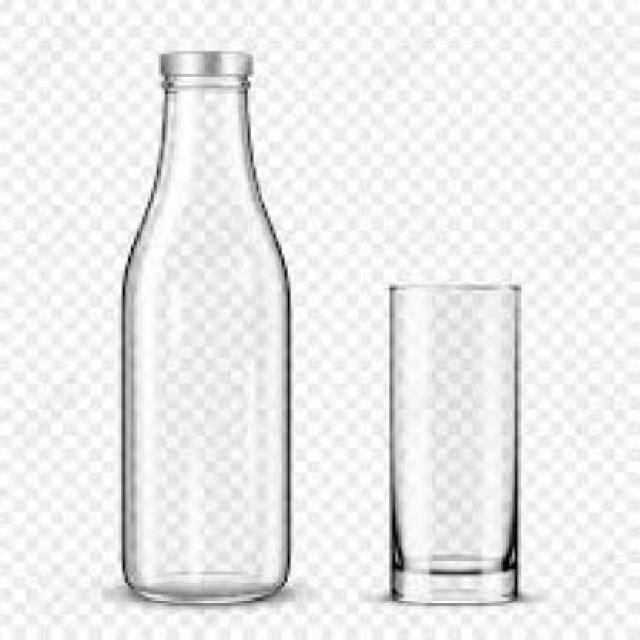kaca: (120, 71, 288, 606), (384, 279, 518, 603)
